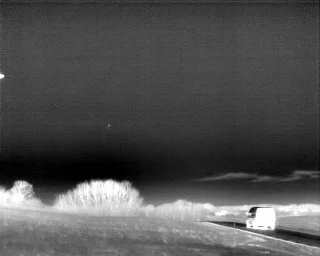BIRD: (106, 122, 113, 130)
